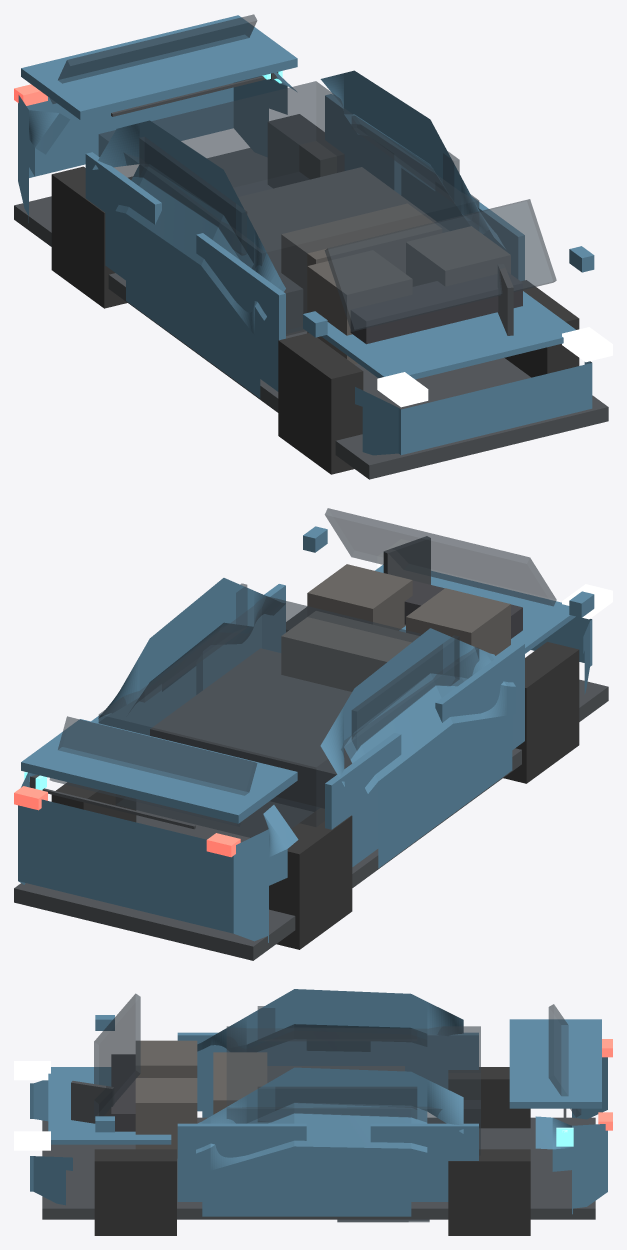
The model's file is compact_sedan.glb.
3 views of the same model, one above another, from view 1: azimuth 30°, elevation 25°; view 2: azimuth 150°, elevation 25°; view 3: azimuth 270°, elevation 25° (orthographic). The views are drawn at different scales.
Parts seen in each view (by area): view 1: body_mesh, cab_mesh, windshield, trunk_mesh, trim_mesh, frunk_mesh, tire_fr, wheel_well_mesh, seat_rear, tire_rr, dash, seat_r (+14 smaller); view 2: body_mesh, cab_mesh, wheel_well_mesh, trunk_mesh, trim_mesh, windshield, tire_rr, rear_glass, seat_rear, tire_fr, seat_l, door_rr_mesh (+14 smaller); view 3: body_mesh, cab_mesh, trim_mesh, trunk_mesh, tire_fl, tire_rl, window_fixed_l, door_rl_mesh, door_fl_mesh, frunk_mesh, windshield, seat_l (+13 smaller).
Boxes of the visible parts, bbox=[...] form: body_mesh: bbox=[18, 70, 592, 455]; cab_mesh: bbox=[98, 81, 479, 333]; windshield: bbox=[325, 199, 556, 331]; trunk_mesh: bbox=[21, 15, 297, 119]; trim_mesh: bbox=[14, 148, 608, 479]; frunk_mesh: bbox=[321, 291, 575, 379]; tire_fr: bbox=[278, 333, 363, 474]; wheel_well_mesh: bbox=[238, 167, 448, 335]; seat_rear: bbox=[281, 203, 441, 313]; tire_rr: bbox=[51, 166, 127, 308]; dash: bbox=[350, 272, 522, 344]; seat_r: bbox=[307, 250, 412, 364]; body_mesh: bbox=[18, 578, 592, 942]; cab_mesh: bbox=[98, 596, 479, 837]; wheel_well_mesh: bbox=[150, 648, 351, 811]; trunk_mesh: bbox=[21, 719, 297, 823]; trim_mesh: bbox=[14, 679, 608, 960]; windshield: bbox=[325, 508, 556, 606]; tire_rr: bbox=[269, 808, 352, 949]; rear_glass: bbox=[49, 716, 257, 826]; seat_rear: bbox=[281, 611, 419, 691]; tire_fr: bbox=[503, 641, 579, 783]; seat_l: bbox=[307, 564, 412, 630]; door_rr_mesh: bbox=[325, 733, 401, 866]; body_mesh: bbox=[30, 989, 607, 1216]; cab_mesh: bbox=[226, 1026, 480, 1155]; trim_mesh: bbox=[42, 1117, 595, 1219]; trunk_mesh: bbox=[509, 1019, 601, 1108]; tire_fl: bbox=[94, 1149, 176, 1235]; tire_rl: bbox=[448, 1149, 530, 1235]; window_fixed_l: bbox=[257, 1086, 417, 1122]; door_rl_mesh: bbox=[370, 1123, 478, 1201]; door_fl_mesh: bbox=[177, 1123, 306, 1201]; frunk_mesh: bbox=[48, 1067, 171, 1144]; windshield: bbox=[94, 993, 140, 1118]; seat_l: bbox=[135, 1078, 197, 1158].
Bounding box in the file's own units: 2.04 × 1.73 × 4.87.
